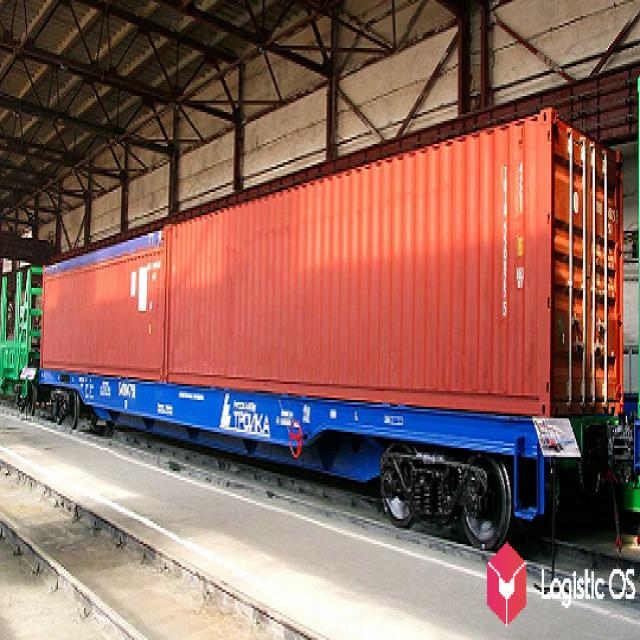container: (165, 104, 627, 423), (39, 217, 172, 373)
flatcar: (38, 364, 567, 556)
flatcar_bulkhead: (1, 261, 40, 417)
